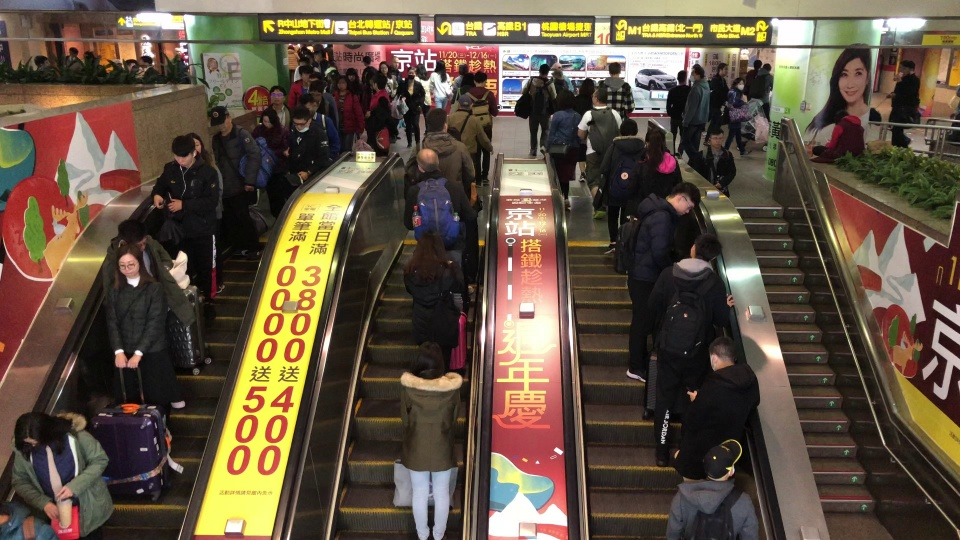person_head: (15, 413, 69, 468), (408, 335, 451, 370), (702, 332, 735, 376), (705, 437, 741, 476), (665, 180, 702, 217), (115, 238, 141, 288), (688, 229, 722, 266), (410, 227, 444, 263), (645, 131, 670, 168), (417, 145, 442, 178), (172, 134, 195, 167), (116, 216, 140, 245), (209, 107, 235, 133), (427, 106, 446, 138), (188, 133, 208, 160), (258, 107, 280, 131), (292, 107, 311, 133), (579, 76, 595, 99), (122, 56, 138, 79), (433, 58, 448, 81), (268, 84, 287, 102), (618, 117, 635, 137), (591, 85, 608, 105), (298, 94, 314, 115), (708, 129, 725, 147), (559, 89, 574, 109), (690, 65, 706, 83), (833, 109, 851, 125), (346, 67, 361, 86), (299, 65, 313, 84), (731, 75, 745, 93), (374, 75, 387, 93), (459, 92, 472, 110), (110, 56, 122, 75), (35, 56, 50, 71), (609, 62, 622, 79), (416, 61, 427, 81), (716, 61, 729, 77), (461, 71, 473, 88), (310, 82, 320, 102), (537, 63, 551, 77), (138, 53, 152, 67), (85, 50, 97, 66), (309, 70, 323, 83), (677, 67, 687, 85), (902, 59, 913, 75), (475, 70, 486, 86), (552, 62, 562, 78), (301, 49, 313, 62), (762, 61, 773, 75), (337, 77, 347, 92), (391, 54, 400, 69), (368, 71, 377, 86), (458, 60, 467, 75), (753, 58, 763, 71), (379, 60, 388, 74), (312, 49, 321, 62), (406, 66, 415, 79), (299, 56, 310, 66), (69, 47, 78, 59), (362, 54, 370, 66), (897, 59, 902, 74), (288, 43, 294, 53)
person_vbox: (654, 220, 737, 468), (674, 322, 760, 539), (102, 216, 184, 416), (388, 143, 472, 329), (396, 329, 470, 540), (102, 240, 172, 463), (149, 131, 220, 348), (627, 180, 701, 384), (8, 407, 117, 537), (402, 151, 481, 301), (397, 225, 469, 383), (669, 438, 757, 540), (208, 106, 263, 259), (187, 131, 227, 296), (578, 85, 624, 222), (600, 118, 645, 252), (449, 89, 494, 205), (630, 128, 683, 218), (546, 89, 582, 211), (281, 105, 331, 180), (522, 61, 558, 158), (700, 119, 739, 201), (470, 65, 495, 190), (681, 65, 710, 169), (890, 58, 921, 149), (298, 94, 342, 158), (701, 60, 731, 150), (666, 64, 691, 160), (334, 76, 366, 150), (725, 74, 752, 158), (597, 61, 636, 118), (251, 106, 282, 177), (823, 108, 864, 161), (576, 74, 595, 185), (306, 71, 339, 133), (402, 65, 423, 151), (369, 74, 391, 154), (427, 54, 453, 112), (753, 62, 774, 122), (267, 85, 292, 133), (288, 65, 313, 110), (417, 61, 432, 135), (550, 59, 575, 97), (947, 80, 960, 150), (377, 59, 399, 100), (743, 58, 763, 103), (83, 49, 107, 84), (294, 50, 321, 81), (362, 70, 378, 119), (64, 44, 84, 83), (33, 53, 60, 81), (452, 54, 466, 107), (359, 53, 379, 89), (387, 53, 404, 94), (137, 53, 160, 83), (891, 57, 901, 117), (460, 66, 474, 99), (287, 45, 299, 78), (345, 67, 360, 93), (323, 69, 337, 93), (327, 70, 338, 94), (314, 43, 326, 60), (330, 71, 338, 94), (325, 43, 333, 60), (306, 42, 313, 49)
